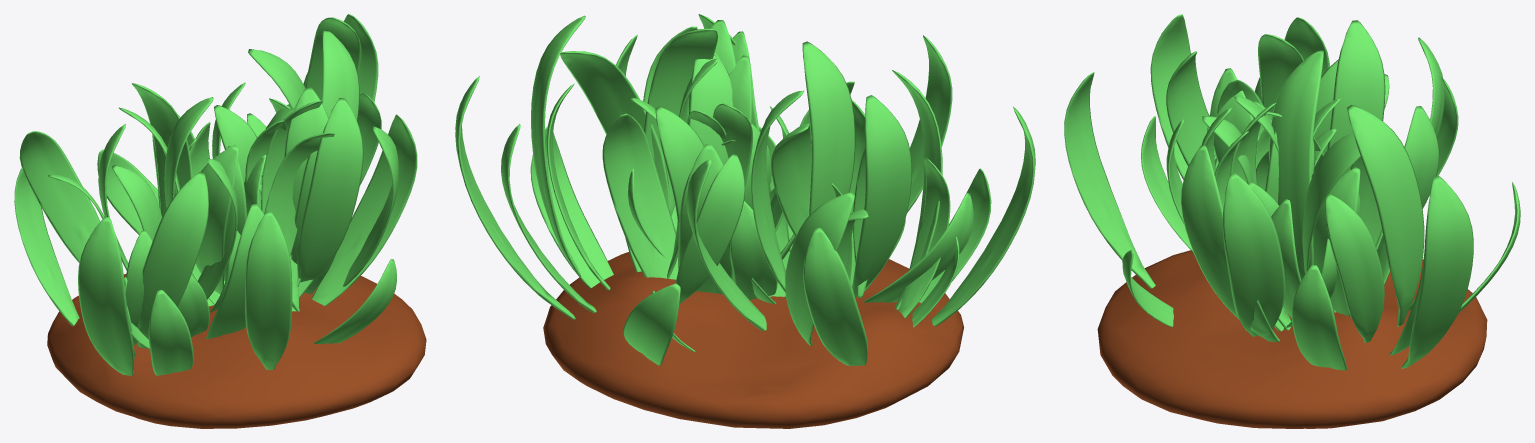
Rendered from tufo.glb.
3 renders of one model, left to right at view 1: azimuth 30°, elevation 25°; view 2: azimuth 150°, elevation 25°; view 3: azimuth 270°, elevation 25°, orthographic. The views are drawn at different scales.
Visible parts, largest first — view 1: Plane.024_assada, Cube.019; view 2: Plane.024_assada, Cube.019; view 3: Plane.024_assada, Cube.019.
Part boxes in pixels (x1,y1,x2,y2): Plane.024_assada: (14, 14, 417, 375); Cube.019: (47, 274, 426, 428); Plane.024_assada: (455, 14, 1035, 365); Cube.019: (543, 252, 963, 428); Plane.024_assada: (1064, 14, 1520, 370); Cube.019: (1097, 250, 1487, 428).
Size of the model in its own units: 10.05 by 7.01 by 9.03.
